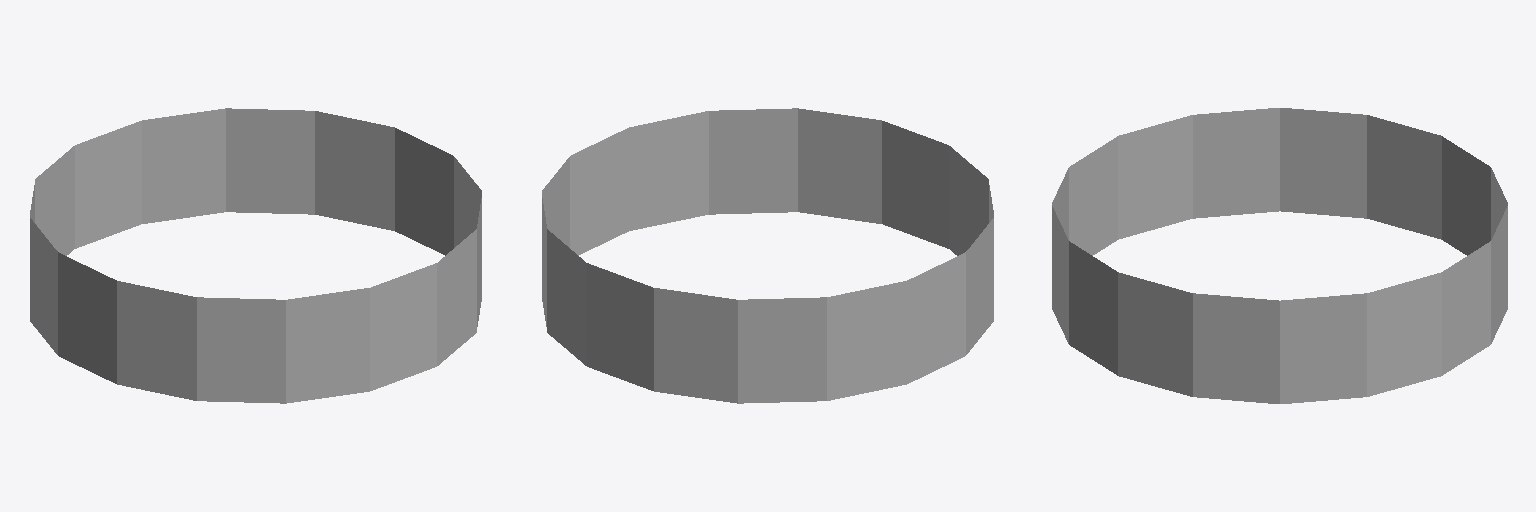
File: zodiacalbelt.obj
3 renders of one model, left to right at view 1: azimuth 30°, elevation 25°; view 2: azimuth 150°, elevation 25°; view 3: azimuth 270°, elevation 25°, orthographic.
Visible parts, largest first — view 1: Cylinder; view 2: Cylinder; view 3: Cylinder.
Part boxes in pixels (bbox=[...]): Cylinder: bbox=[30, 108, 481, 403]; Cylinder: bbox=[542, 108, 993, 403]; Cylinder: bbox=[1052, 108, 1507, 403].
Bounding box in the file's own units: 565 × 142 × 565.